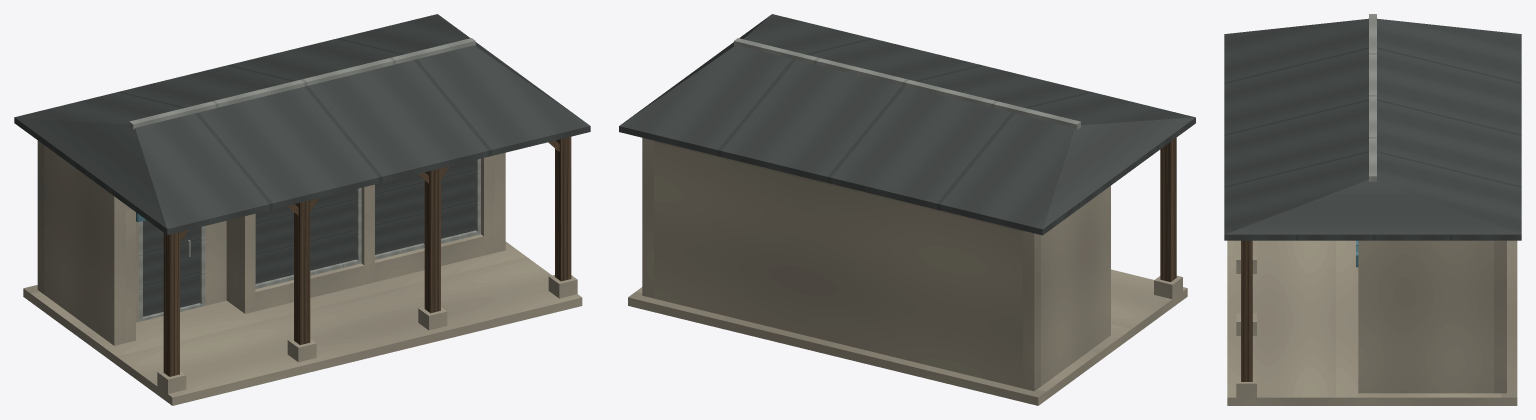
3 renders of one model, left to right at view 1: azimuth 30°, elevation 25°; view 2: azimuth 150°, elevation 25°; view 3: azimuth 270°, elevation 25°, orthographic. The views are drawn at different scales.
Visible parts, largest first — view 1: seoul; view 2: seoul; view 3: seoul.
Boxes of the visible parts, x1,y1,x2,y2 form: seoul: (14, 14, 590, 405); seoul: (619, 14, 1195, 405); seoul: (1224, 14, 1521, 405).
Size of the model in its own units: 7.35 by 3.65 by 4.6.
1 material, 1 textured.
